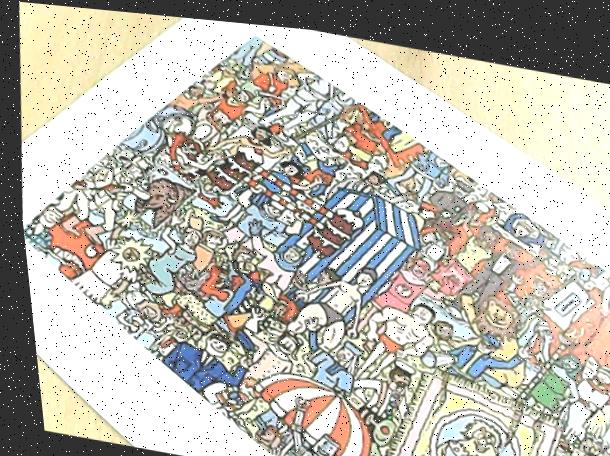waldo: (523, 261, 552, 294)
